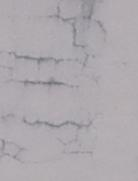fissura: (0, 3, 106, 164)
